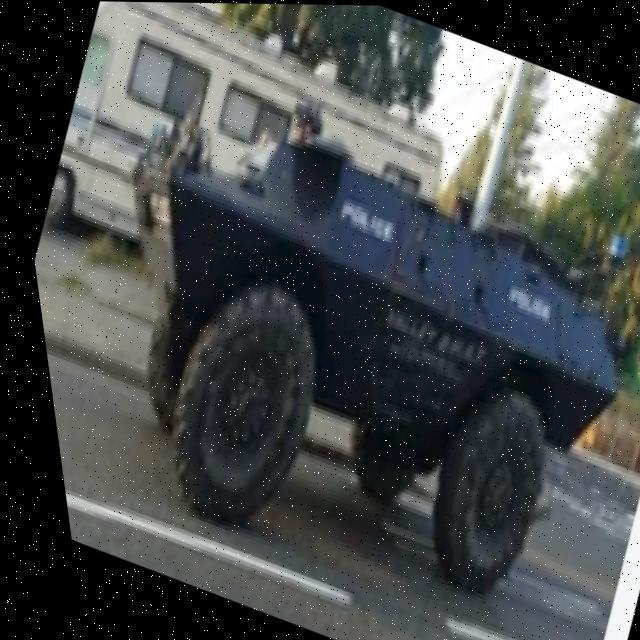MIL_APC: (17, 64, 640, 640)
